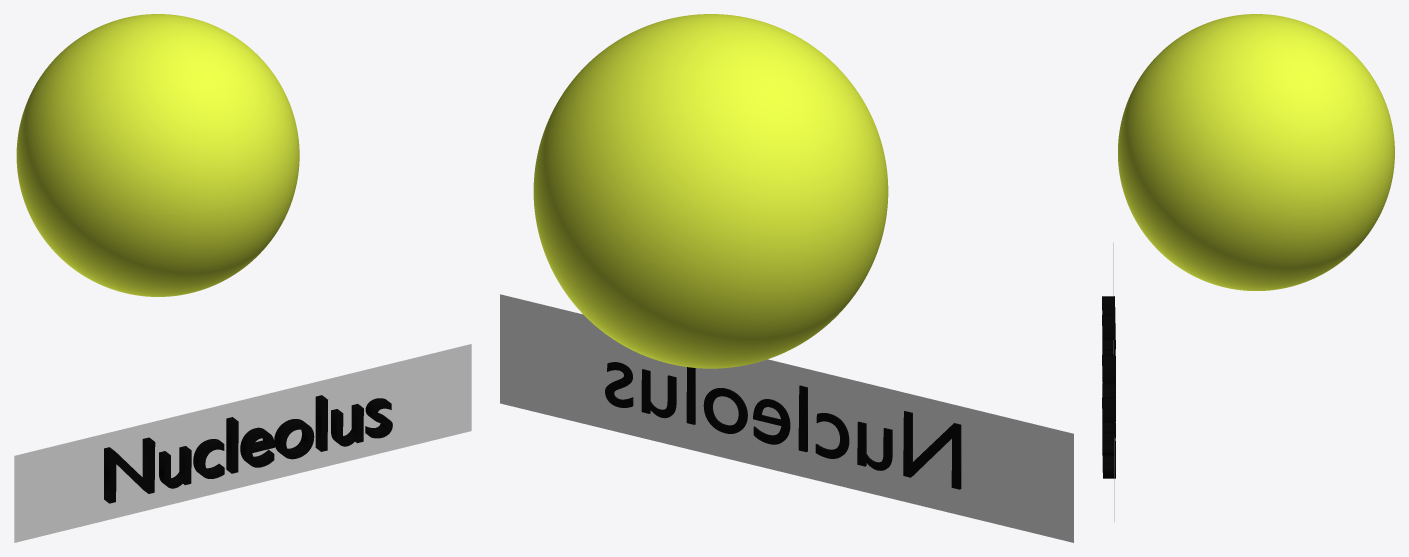
File: nucleolus1.gltf
The picture shows the model from 3 angles, left to right: view 1: azimuth 30°, elevation 25°; view 2: azimuth 150°, elevation 25°; view 3: azimuth 270°, elevation 25°; orthographic projection. The views are drawn at different scales.
Parts seen in each view (by area): view 1: Object_2.002, Plane.042, Text.027; view 2: Object_2.002, Plane.042, Text.027; view 3: Object_2.002, Text.027.
Boxes of the visible parts, x1=… form: Object_2.002: x1=16, y1=14, x2=299, y2=296; Plane.042: x1=14, y1=344, x2=471, y2=542; Text.027: x1=104, y1=395, x2=392, y2=503; Object_2.002: x1=533, y1=14, x2=888, y2=368; Plane.042: x1=500, y1=294, x2=1073, y2=542; Text.027: x1=605, y1=362, x2=961, y2=489; Object_2.002: x1=1118, y1=14, x2=1394, y2=290; Text.027: x1=1102, y1=296, x2=1115, y2=478.
Bounding box in the file's own units: 0.7982 × 0.6828 × 0.4522.
